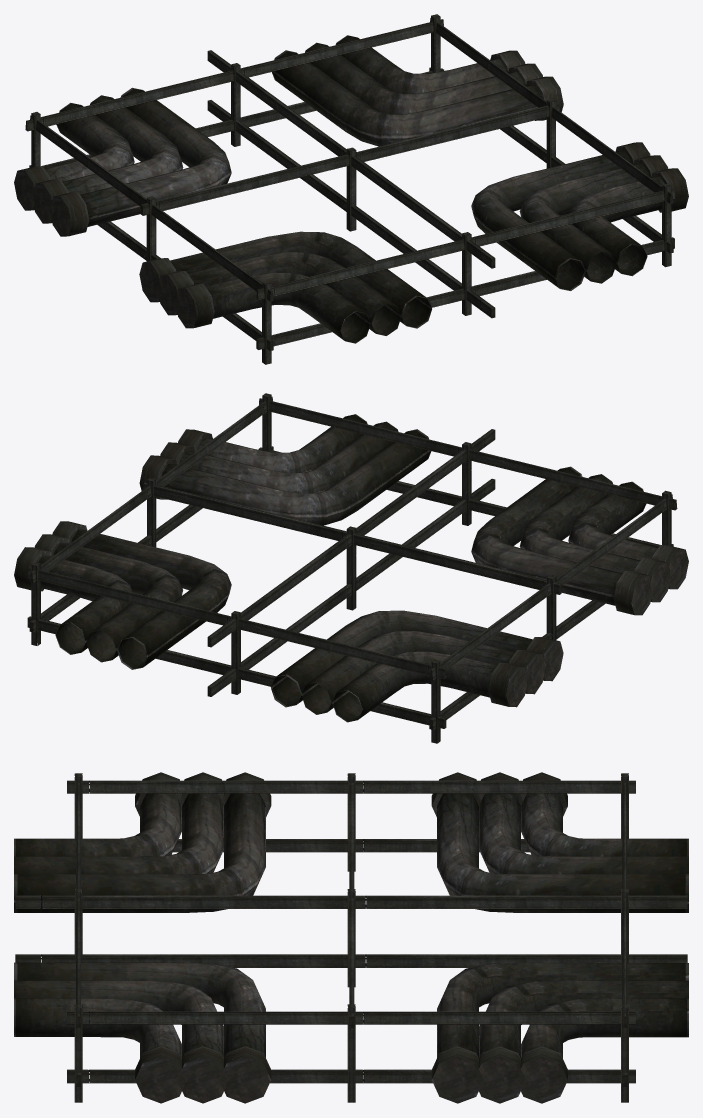
The model's file is tesla_dressing_pipe_clusters_01_corner.dae.
3 renders of one model, top to bottom at view 1: azimuth 30°, elevation 25°; view 2: azimuth 150°, elevation 25°; view 3: azimuth 270°, elevation 25°, orthographic. The views are drawn at different scales.
Visible parts, largest first — view 1: cluster_01_corner_pipes, cluster_01_frame1; view 2: cluster_01_corner_pipes, cluster_01_frame1; view 3: cluster_01_corner_pipes, cluster_01_frame1.
Boxes of the visible parts, x1,y1,x2,y2 form: cluster_01_corner_pipes: (14,35,688,343); cluster_01_frame1: (25,14,674,364); cluster_01_corner_pipes: (14,414,688,722); cluster_01_frame1: (27,393,677,743); cluster_01_corner_pipes: (14,772,688,1103); cluster_01_frame1: (15,773,687,1102).
Bounding box in the file's own units: 4 × 0.6225 × 4.02.
